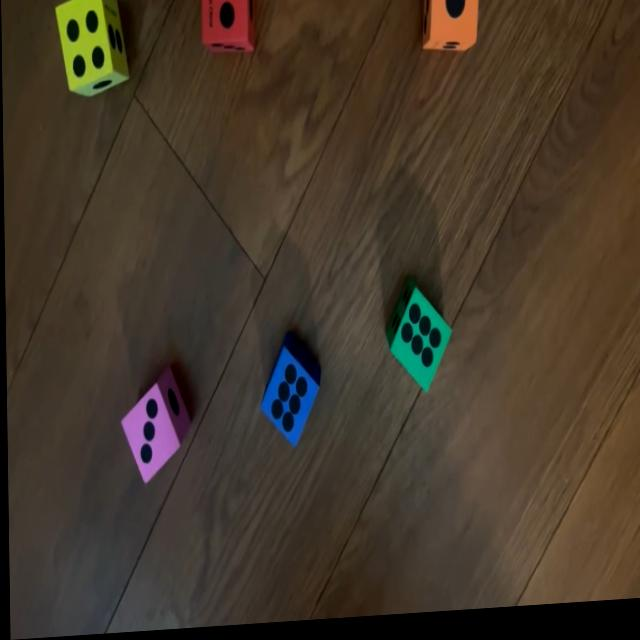cube: (254, 332, 320, 458), (383, 281, 453, 399), (200, 0, 252, 60)
